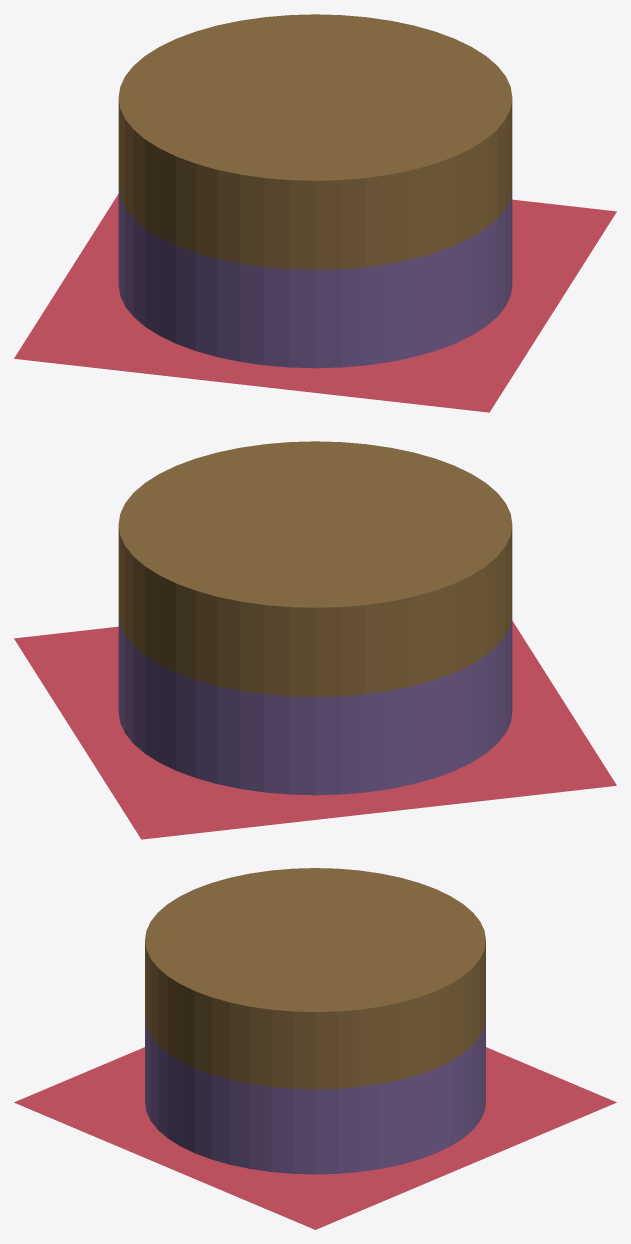
File: UUC.glb
3 views of the same model, one above another, from view 1: azimuth 30°, elevation 25°; view 2: azimuth 150°, elevation 25°; view 3: azimuth 270°, elevation 25° (orthographic). The views are drawn at different scales.
Visible parts, largest first — view 1: Mesh_Mesh_head_geo.001_lambert2SG.001; view 2: Mesh_Mesh_head_geo.001_lambert2SG.001; view 3: Mesh_Mesh_head_geo.001_lambert2SG.001.
Boxes of the visible parts, x1,y1,x2,y2 form: Mesh_Mesh_head_geo.001_lambert2SG.001: (14,14,616,412); Mesh_Mesh_head_geo.001_lambert2SG.001: (14,441,616,839); Mesh_Mesh_head_geo.001_lambert2SG.001: (14,868,616,1229).
Bounding box in the file's own units: 0.0354 × 0.0105 × 0.0354.
